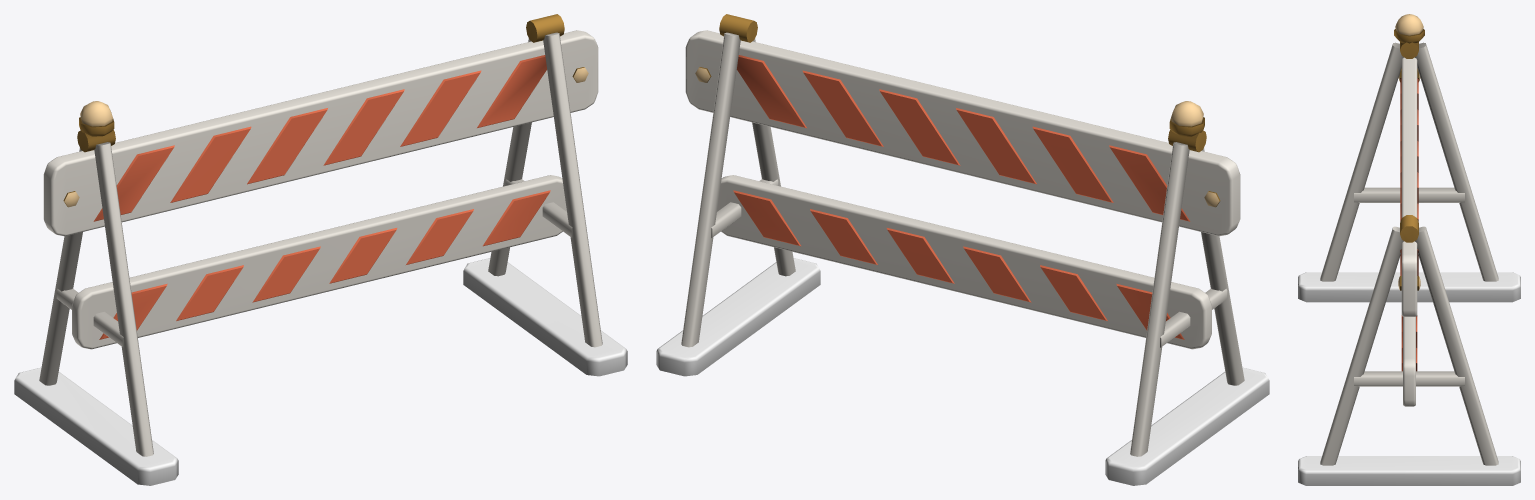
Rendered from barrier_coral.fbx.
3 renders of one model, left to right at view 1: azimuth 30°, elevation 25°; view 2: azimuth 150°, elevation 25°; view 3: azimuth 270°, elevation 25°, orthographic. The views are drawn at different scales.
Visible parts, largest first — view 1: barrier_coral; view 2: barrier_coral; view 3: barrier_coral.
Part boxes in pixels (left/top/right/bottom): barrier_coral: left=14, top=14, right=627, bottom=485; barrier_coral: left=656, top=14, right=1269, bottom=485; barrier_coral: left=1298, top=14, right=1520, bottom=485.
Size of the model in its own units: 2 by 1.16 by 0.84.
